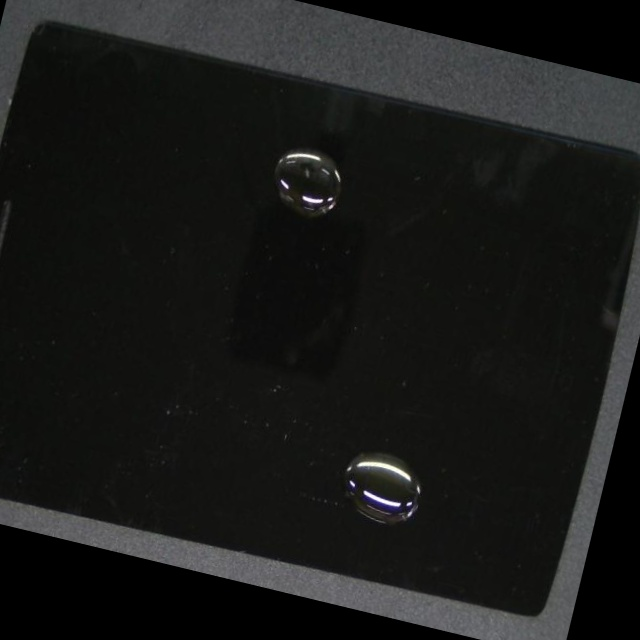oil: (149, 242, 638, 640), (168, 69, 520, 278)
